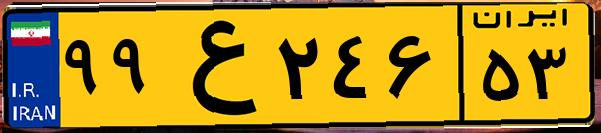2: (270, 28, 330, 110)
3: (525, 38, 570, 115)
4: (330, 28, 385, 110)
5: (475, 38, 525, 113)
6: (385, 28, 445, 110)
9: (57, 26, 110, 100), (110, 28, 158, 98)
ع: (158, 12, 270, 120)
